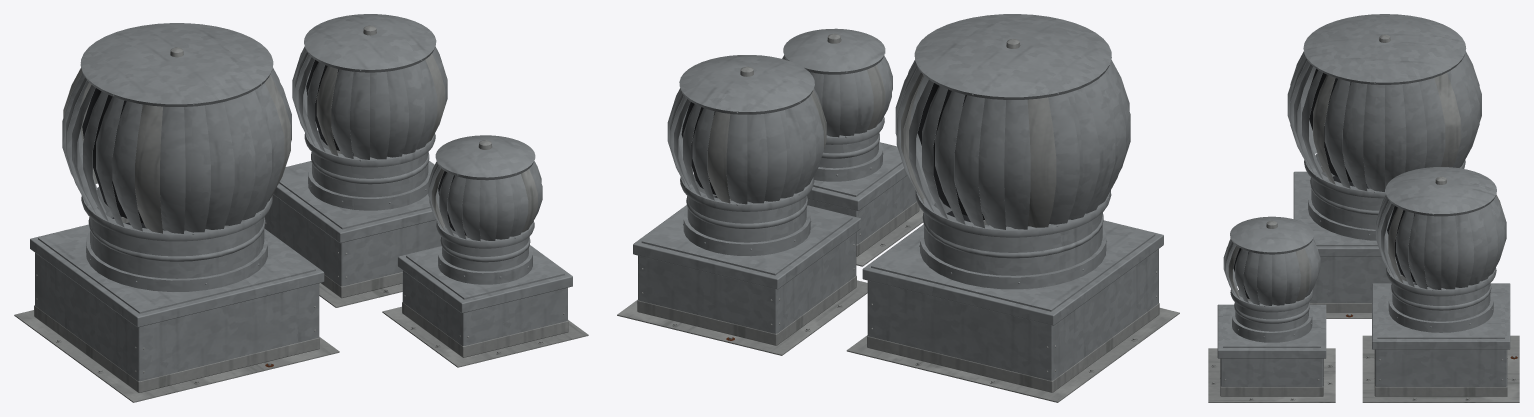
File: turbine_vents.glb
3 renders of one model, left to right at view 1: azimuth 30°, elevation 25°; view 2: azimuth 150°, elevation 25°; view 3: azimuth 270°, elevation 25°, orthographic. The views are drawn at different scales.
Parts seen in each view (by area): view 1: part_head_1_LOD0, part_curb_1_LOD0, part_head_2_LOD0, part_curb_3_LOD0, part_curb_2_LOD0, part_head_3_LOD0, part_throat_1_LOD0, part_throat_2_LOD0, part_throat_3_LOD0; view 2: part_head_1_LOD0, part_curb_1_LOD0, part_curb_2_LOD0, part_head_2_LOD0, part_head_3_LOD0, part_curb_3_LOD0, part_throat_1_LOD0, part_throat_2_LOD0, part_throat_3_LOD0; view 3: part_head_1_LOD0, part_curb_2_LOD0, part_head_2_LOD0, part_curb_3_LOD0, part_head_3_LOD0, part_curb_1_LOD0, part_throat_2_LOD0, part_throat_1_LOD0, part_throat_3_LOD0.
Boxes of the visible parts, box(x1,y1,x2,y2) form: part_head_1_LOD0: box(62, 23, 291, 241); part_curb_1_LOD0: box(14, 217, 339, 402); part_head_2_LOD0: box(292, 14, 447, 167); part_curb_3_LOD0: box(382, 245, 588, 367); part_curb_2_LOD0: box(264, 160, 441, 307); part_head_3_LOD0: box(428, 135, 542, 248); part_throat_1_LOD0: box(88, 186, 265, 278); part_throat_2_LOD0: box(311, 130, 429, 197); part_throat_3_LOD0: box(440, 226, 530, 271); part_head_1_LOD0: box(895, 14, 1130, 237); part_curb_1_LOD0: box(846, 220, 1179, 402); part_curb_2_LOD0: box(617, 205, 867, 355); part_head_2_LOD0: box(667, 55, 826, 211); part_head_3_LOD0: box(782, 28, 892, 144); part_curb_3_LOD0: box(807, 142, 923, 266); part_throat_1_LOD0: box(922, 197, 1103, 275); part_throat_2_LOD0: box(686, 174, 807, 242); part_throat_3_LOD0: box(818, 132, 879, 168); part_head_1_LOD0: box(1287, 14, 1481, 198); part_curb_2_LOD0: box(1362, 283, 1519, 402); part_head_2_LOD0: box(1375, 167, 1506, 296); part_curb_3_LOD0: box(1208, 304, 1335, 402); part_head_3_LOD0: box(1223, 216, 1320, 312); part_curb_1_LOD0: box(1293, 171, 1397, 318); part_throat_2_LOD0: box(1391, 265, 1491, 321); part_throat_1_LOD0: box(1310, 153, 1383, 229); part_throat_3_LOD0: box(1234, 290, 1309, 331).
Size of what is drawn, in the model's own units: 1.63 by 1.09 by 1.27.
Materials: 5 (5 with a texture image).
